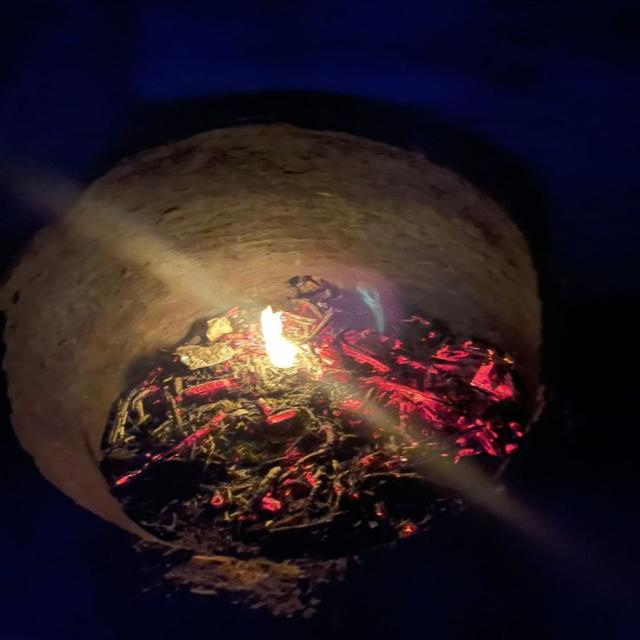fire: (258, 302, 296, 368)
